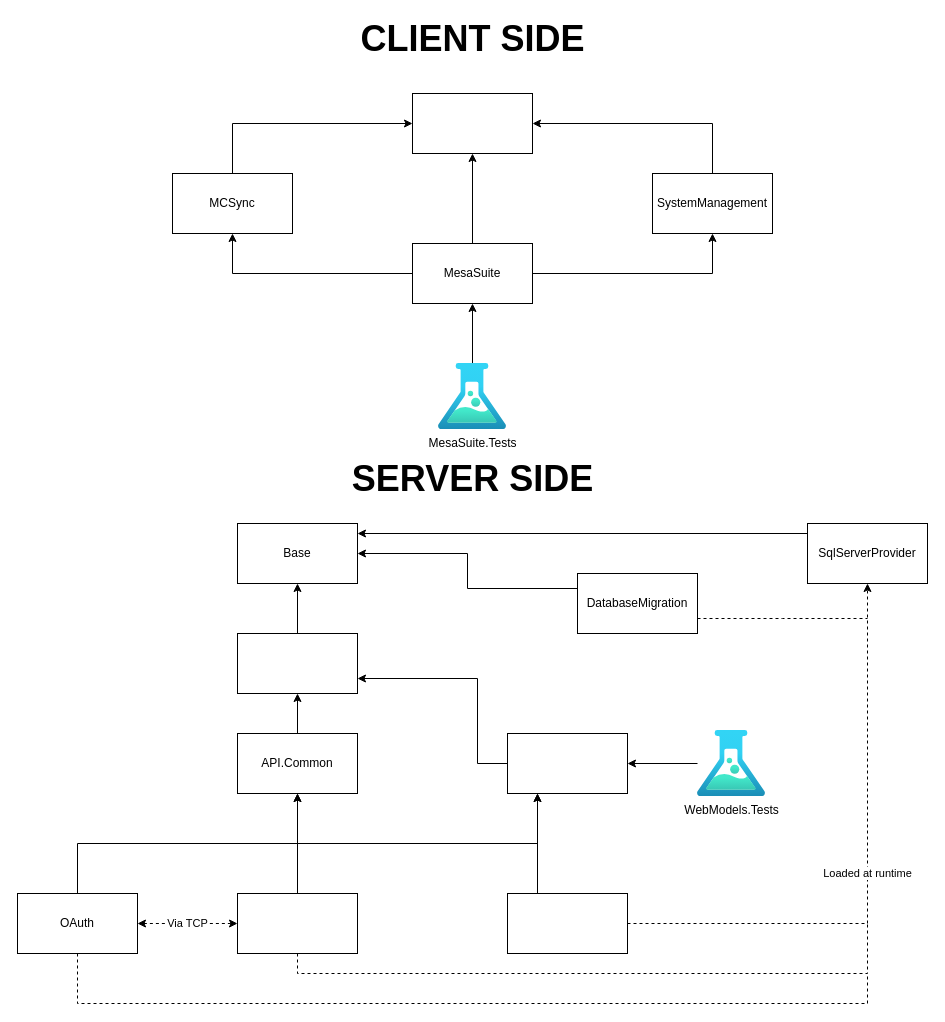
Some shapes in this 945 by 1022 pixel diagram are drawn without their labels. Each missing label, with the centre of its shape:
"API-MCSync" belongs at (567,923).
"API-System" belongs at (297,923).
"MesaSuite.Common" belongs at (472,123).
"ObjectBasedFramework" belongs at (297,663).
"WebModels" belongs at (567,763).
